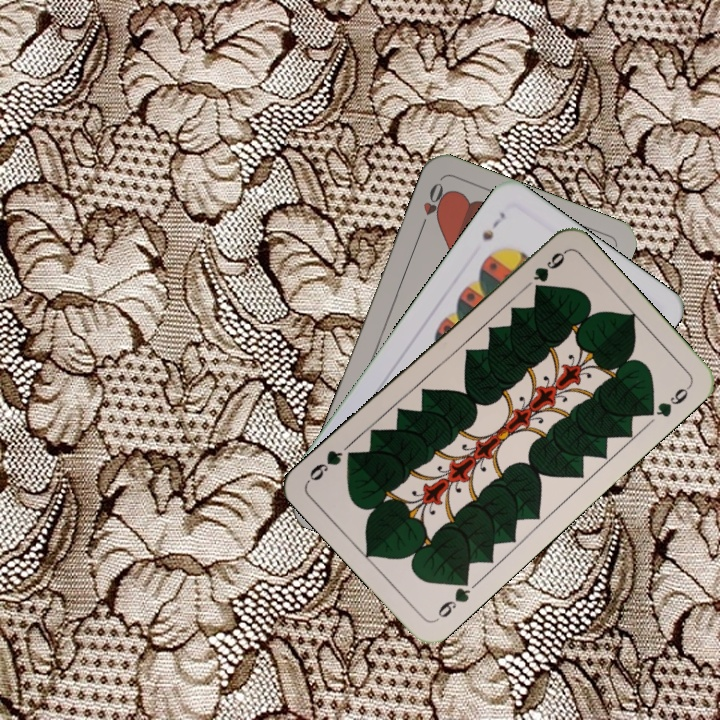G9: (432, 571, 473, 624), (520, 247, 569, 291)
HO: (416, 178, 450, 234)
S7: (478, 207, 508, 243)
